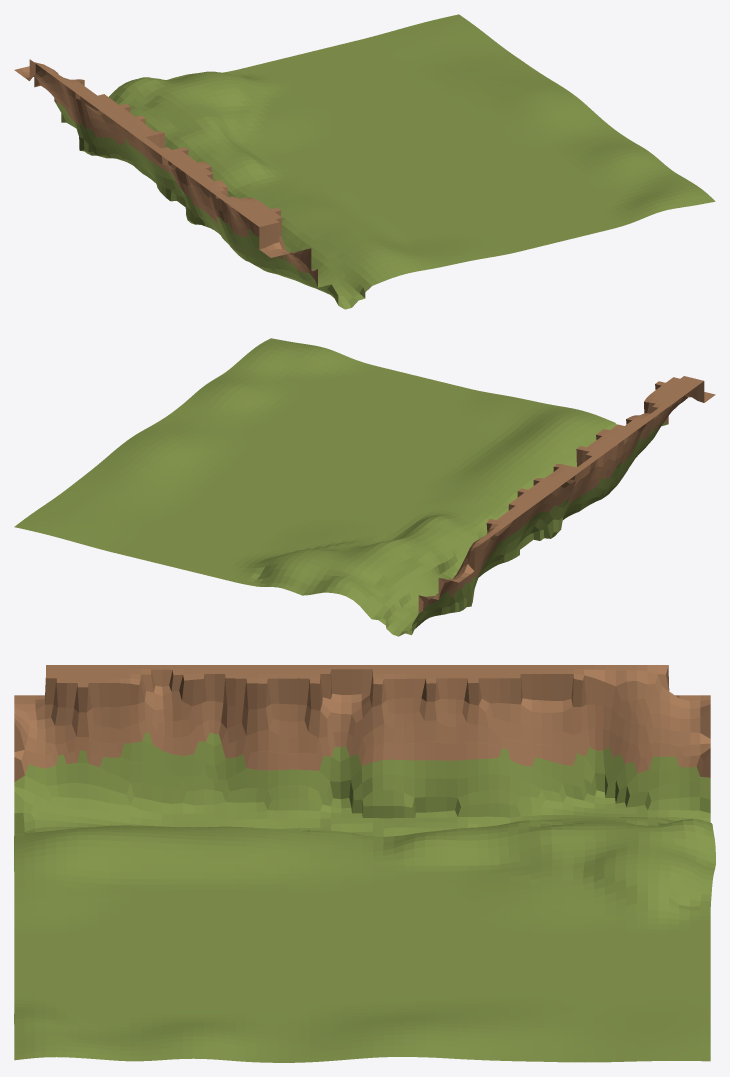
The model's file is griou.fbx.
The picture shows the model from 3 angles, top to bottom: view 1: azimuth 30°, elevation 25°; view 2: azimuth 150°, elevation 25°; view 3: azimuth 270°, elevation 25°; orthographic projection. The views are drawn at different scales.
Visible parts, largest first — view 1: Plane; view 2: Plane; view 3: Plane.
Part boxes in pixels (box(x1,y1,x2,y2)): Plane: box(14, 14, 715, 309); Plane: box(14, 338, 715, 636); Plane: box(14, 665, 715, 1062).
Size of the model in its own units: 1001 by 197 by 1008.
